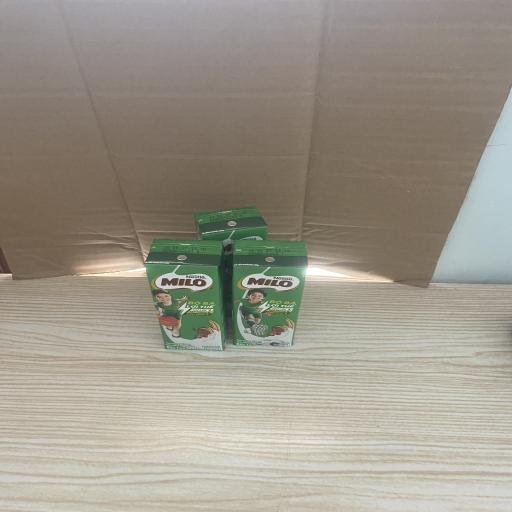milo: (144, 240, 227, 351), (193, 205, 270, 316), (232, 240, 308, 348)
